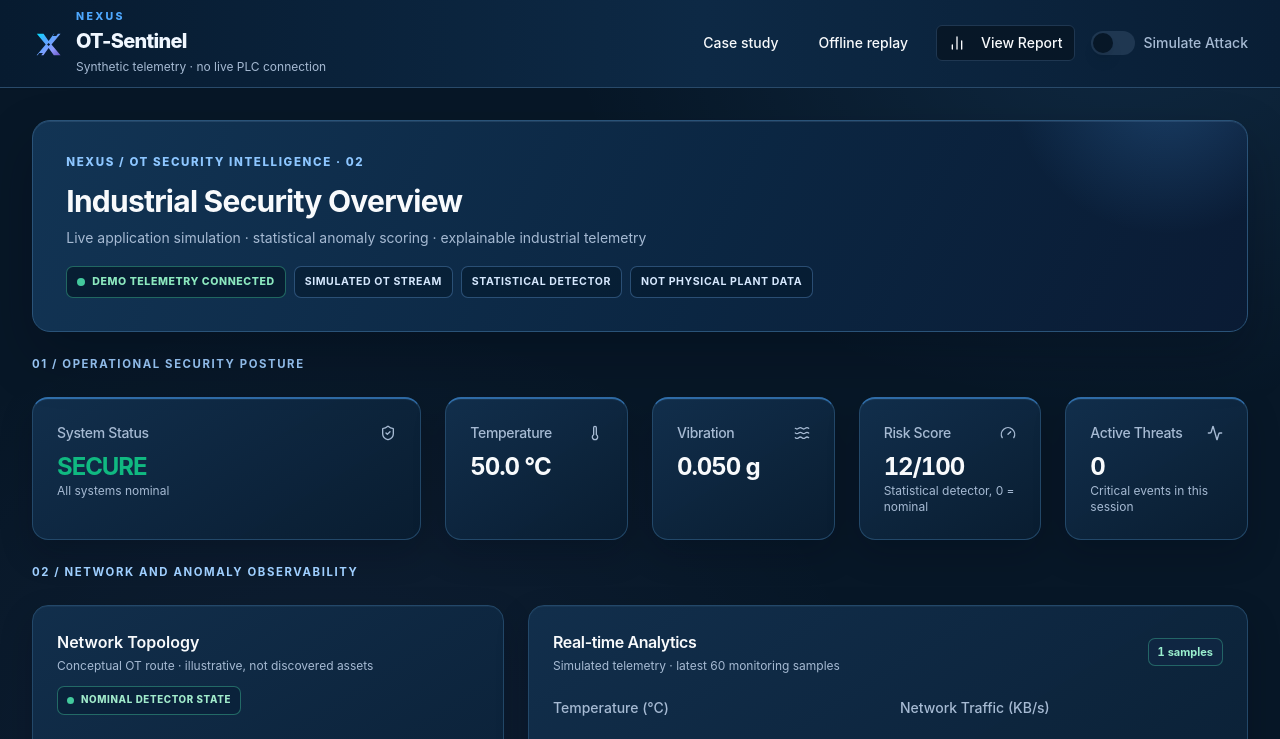
it: Dashboard › resets the threat counter when attack simulation is switched off
Step 1. Click the switch named "Simulate Attack" → (1114, 43), box [1092,31,1136,55]
Wait 1000 ms
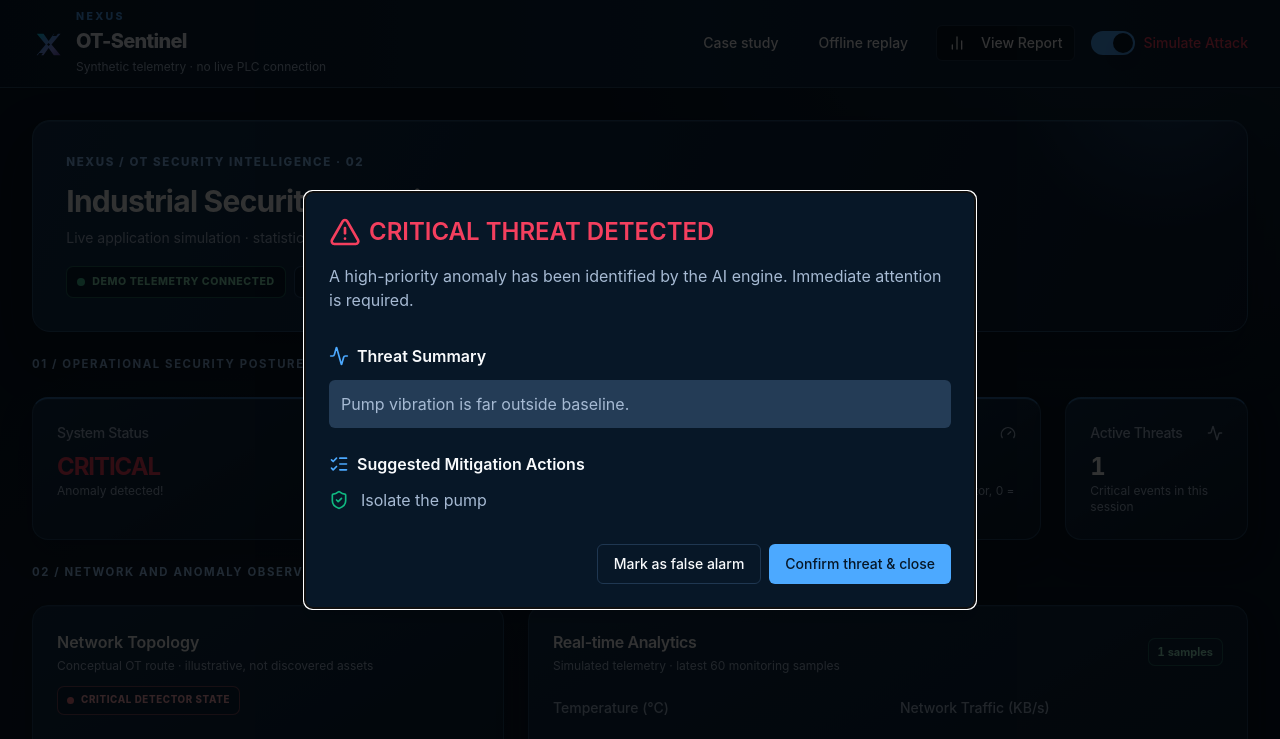
Step 2. Click the button "Mark as false alarm" → (679, 564), box [597,544,761,584]
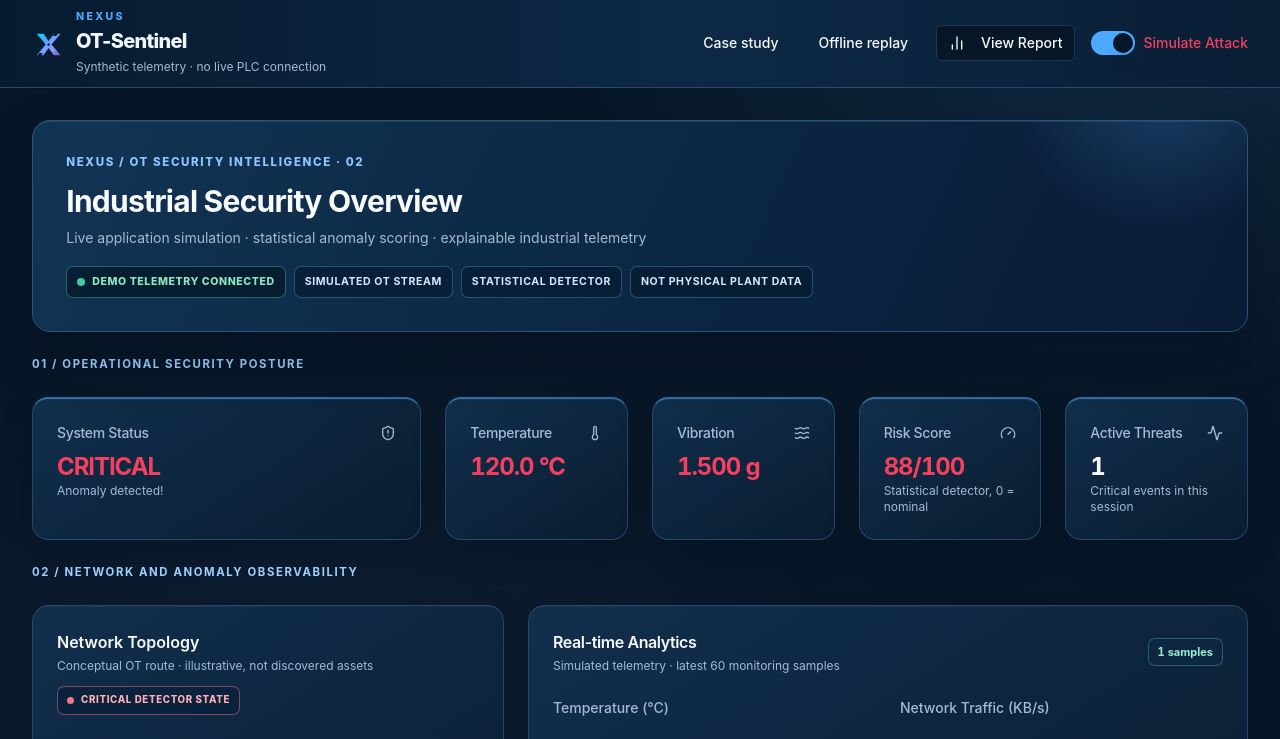
Now the text "1" is shown, box [1090,452,1105,481]
Step 3. Click the switch named "Simulate Attack" → (1114, 43), box [1092,31,1136,55]
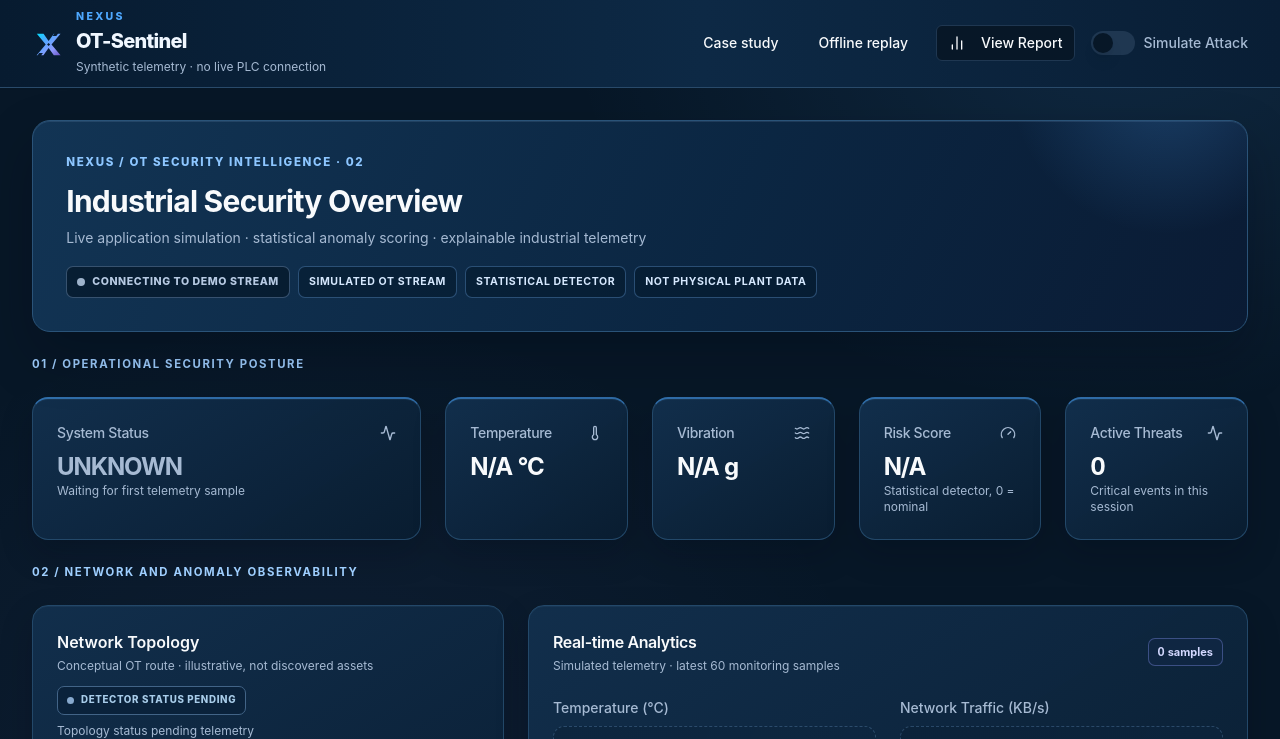
Now the text "0" is shown, box [1090,452,1105,481]
